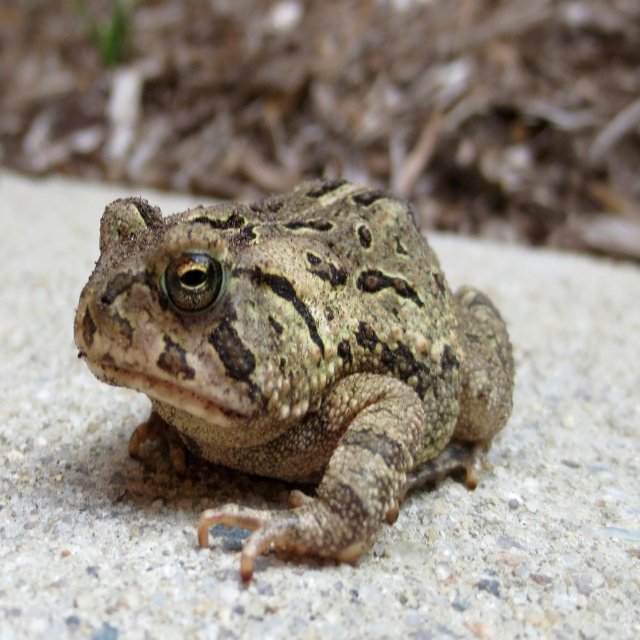Frog: (71, 174, 517, 579)
